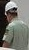hard-hat: (4, 0, 17, 13)
